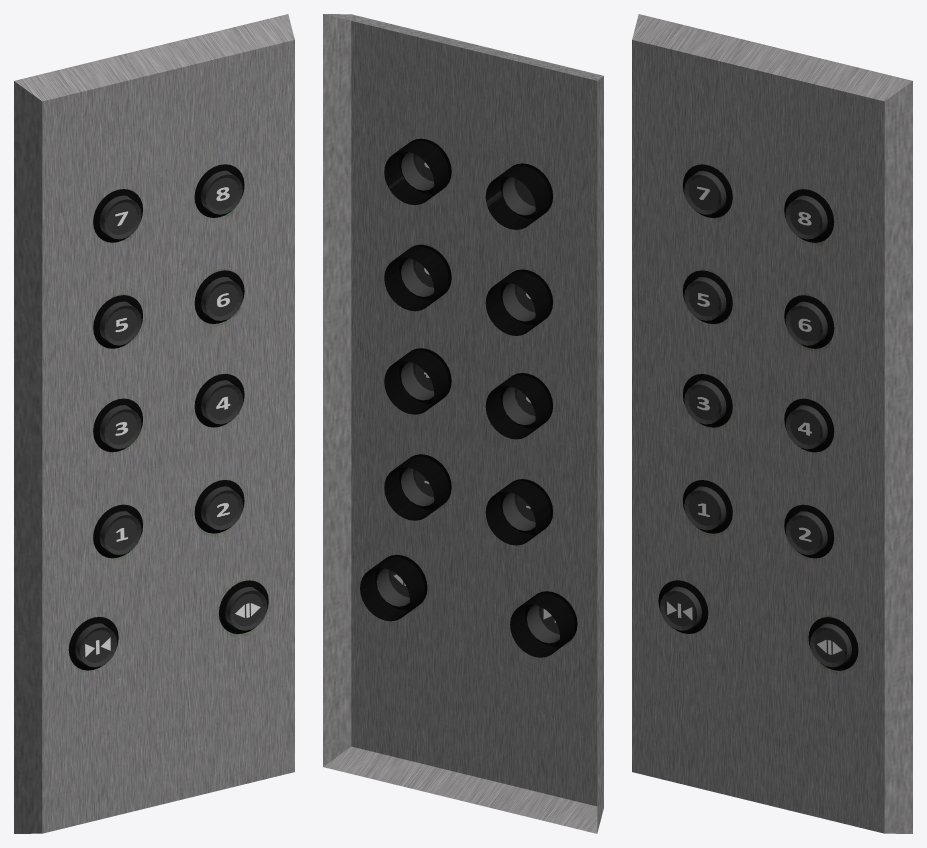
File: elevator button control.FBX
The picture shows the model from 3 angles, left to right: view 1: azimuth 30°, elevation 25°; view 2: azimuth 150°, elevation 25°; view 3: azimuth 330°, elevation 25°; orthographic projection.
Visible parts, largest first — view 1: Rectangle001, Cylinder006, Cylinder002, Cylinder010, Cylinder009, Cylinder003, Cylinder004, Cylinder005, Cylinder007, Cylinder001, Cylinder008; view 2: Rectangle001, Cylinder005, Cylinder002, Cylinder003, Cylinder006, Cylinder010, Cylinder001, Cylinder004, Cylinder009, Cylinder007, Cylinder008; view 3: Rectangle001, Cylinder005, Cylinder008, Cylinder002, Cylinder006, Cylinder003, Cylinder004, Cylinder007, Cylinder010, Cylinder001, Cylinder009.
Boxes of the visible parts, x1,y1,x2,y2 form: Rectangle001: [14, 14, 294, 833]; Cylinder006: [201, 380, 243, 424]; Cylinder002: [99, 405, 141, 449]; Cylinder010: [75, 623, 117, 667]; Cylinder009: [225, 587, 267, 630]; Cylinder003: [99, 301, 141, 345]; Cylinder004: [99, 195, 141, 239]; Cylinder005: [201, 276, 242, 320]; Cylinder007: [201, 486, 243, 530]; Cylinder001: [99, 511, 141, 554]; Cylinder008: [201, 170, 242, 214]; Rectangle001: [323, 14, 603, 833]; Cylinder005: [401, 258, 434, 296]; Cylinder002: [502, 386, 535, 424]; Cylinder003: [502, 283, 535, 321]; Cylinder006: [401, 361, 434, 400]; Cylinder010: [526, 604, 559, 643]; Cylinder001: [502, 492, 535, 530]; Cylinder004: [502, 177, 535, 215]; Cylinder009: [376, 568, 409, 606]; Cylinder007: [401, 467, 434, 506]; Cylinder008: [401, 152, 434, 190]; Rectangle001: [632, 14, 912, 833]; Cylinder005: [785, 301, 827, 345]; Cylinder008: [785, 195, 827, 239]; Cylinder002: [684, 380, 726, 424]; Cylinder006: [785, 405, 827, 449]; Cylinder003: [684, 277, 726, 320]; Cylinder004: [684, 171, 726, 214]; Cylinder007: [785, 511, 827, 554]; Cylinder010: [660, 586, 701, 630]; Cylinder001: [684, 486, 726, 530]; Cylinder009: [810, 623, 851, 667].
Size of the model in its own units: 54.36 by 143 by 7.69.
Materials: 11 (11 with a texture image).
